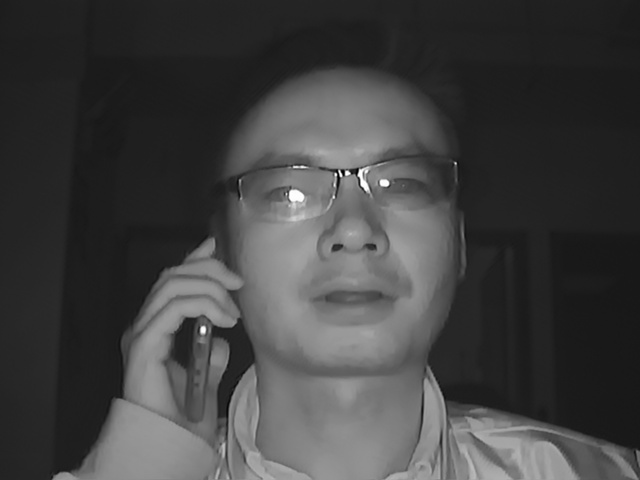hand: (115, 236, 244, 427)
